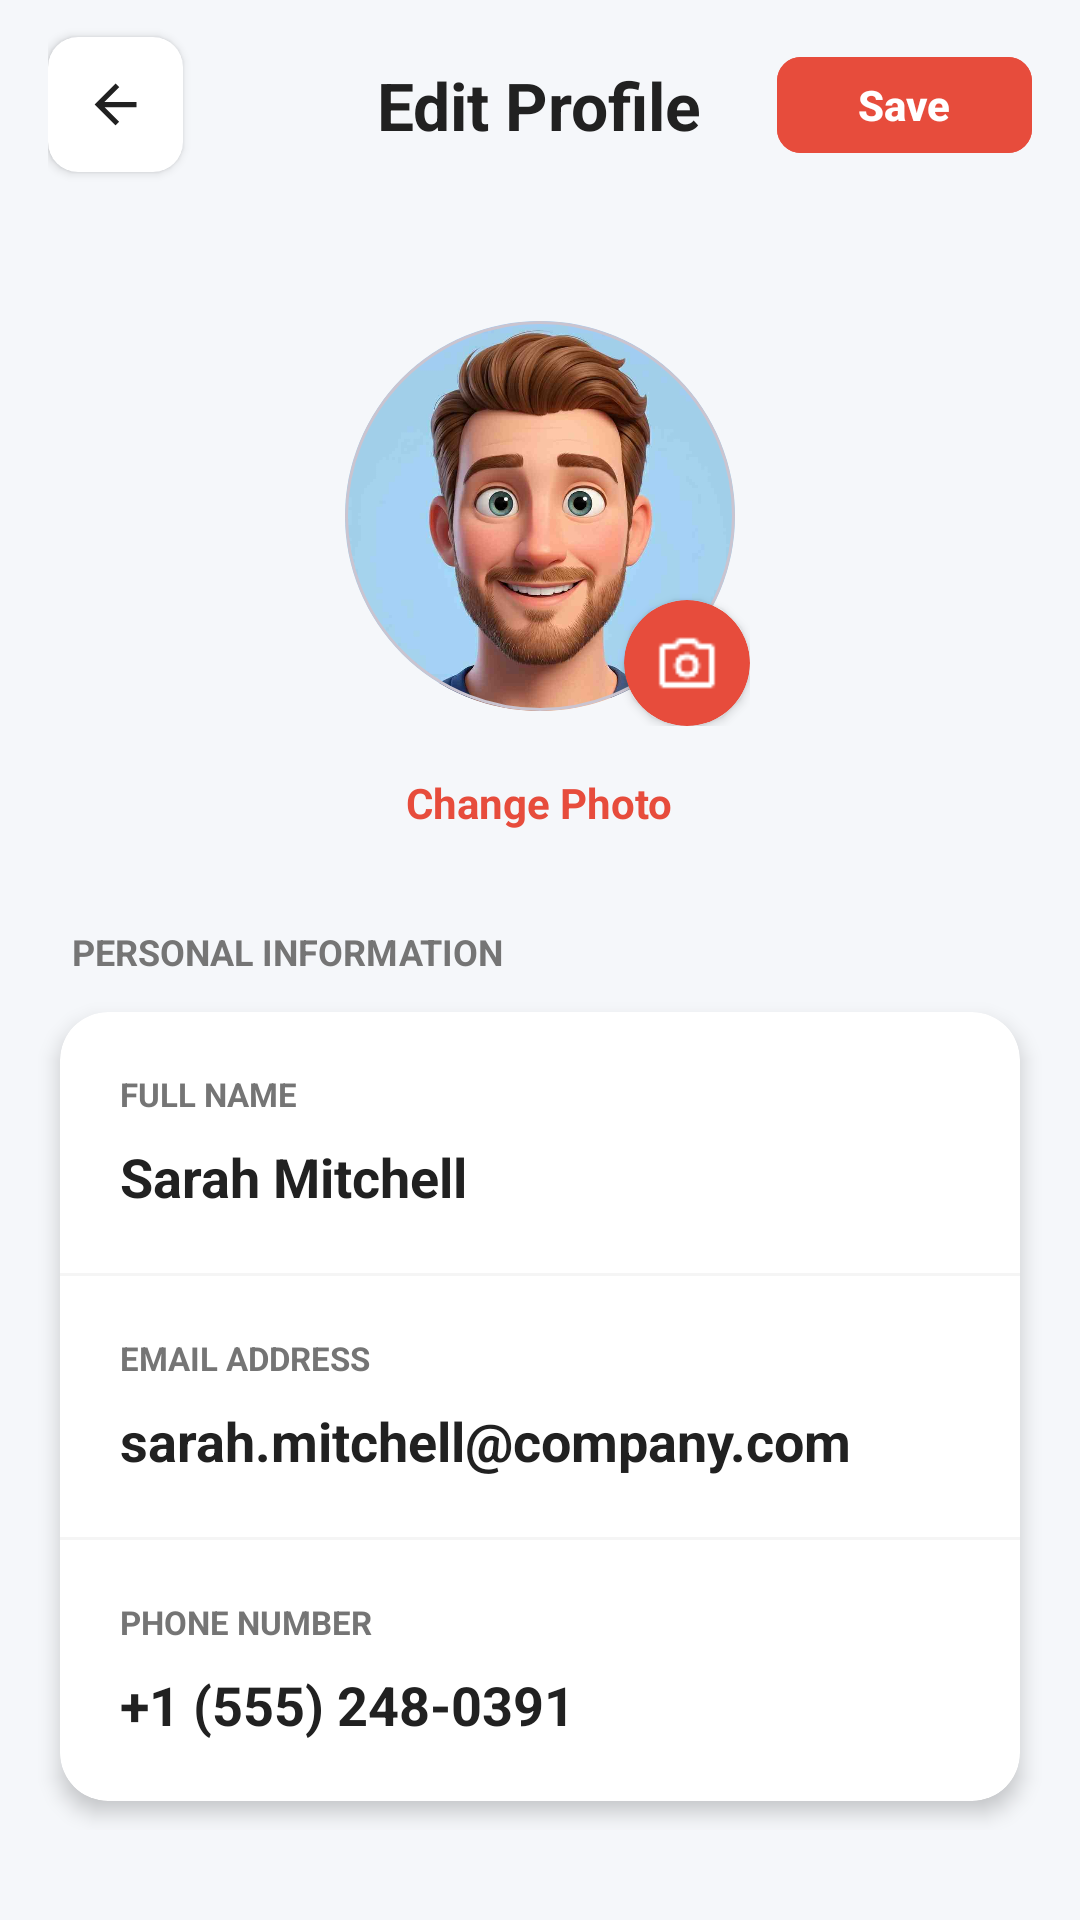

Icons on this 1080w x 1920h Android screen, each with its box as {"left": x1, "top": y1, "right": x2, "bottom": y2}:
arrow back: {"left": 48, "top": 37, "right": 183, "bottom": 172}
